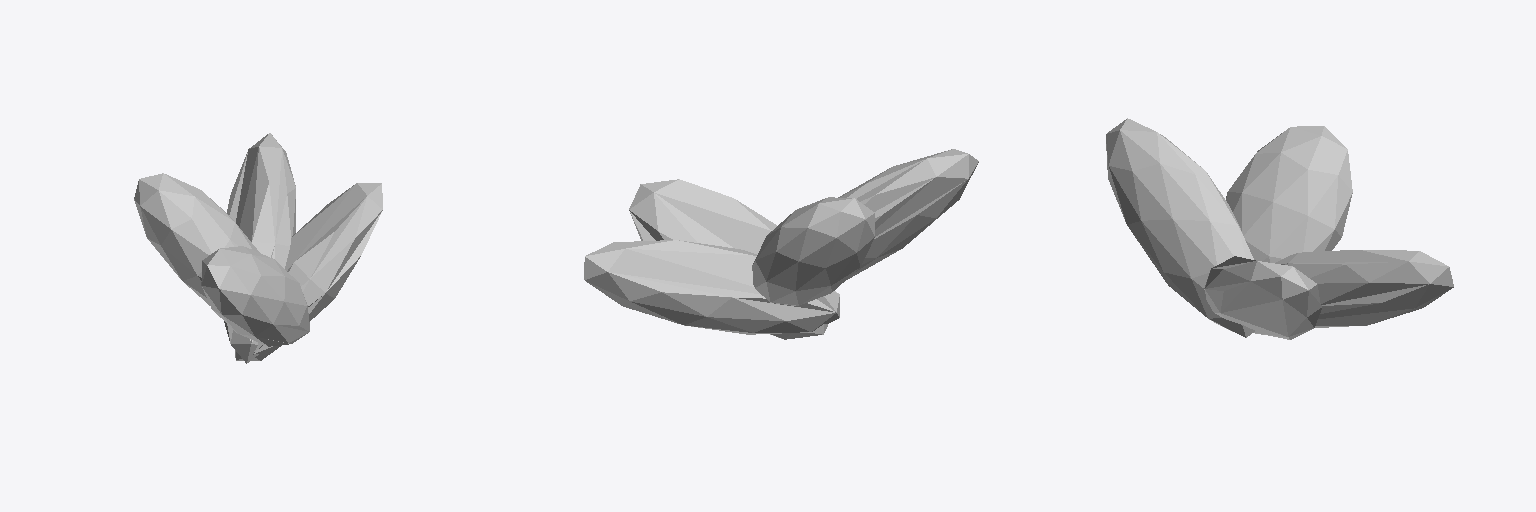
File: grass3.obj
3 renders of one model, left to right at view 1: azimuth 30°, elevation 25°; view 2: azimuth 150°, elevation 25°; view 3: azimuth 270°, elevation 25°, orthographic.
Visible parts, largest first — view 1: Icosphere.067; view 2: Icosphere.067; view 3: Icosphere.067.
Boxes of the visible parts, <box> form: Icosphere.067: <box>134,133,382,363</box>; Icosphere.067: <box>584,149,978,339</box>; Icosphere.067: <box>1106,118,1453,339</box>.
Bounding box in the file's own units: 0.4368 × 0.2784 × 0.5167.